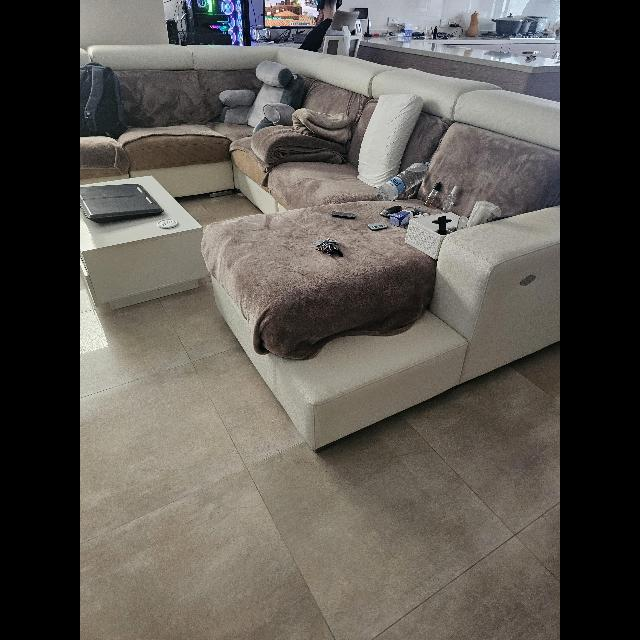Keys: (313, 238, 343, 256)
